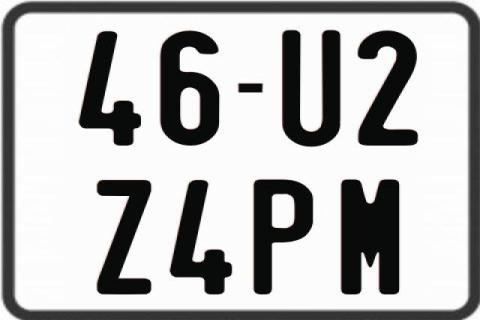0: (167, 180, 235, 294), (356, 29, 420, 149), (158, 29, 217, 149), (78, 30, 140, 144)
M: (342, 180, 404, 300)
P: (254, 180, 315, 298)
U: (280, 30, 341, 146)
Z: (95, 180, 151, 298)
